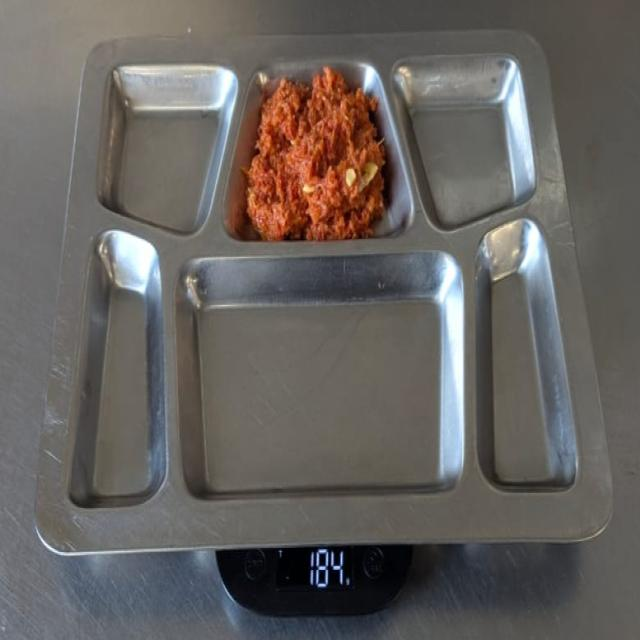Gajar Ka Halwa: (261, 85, 378, 242)
